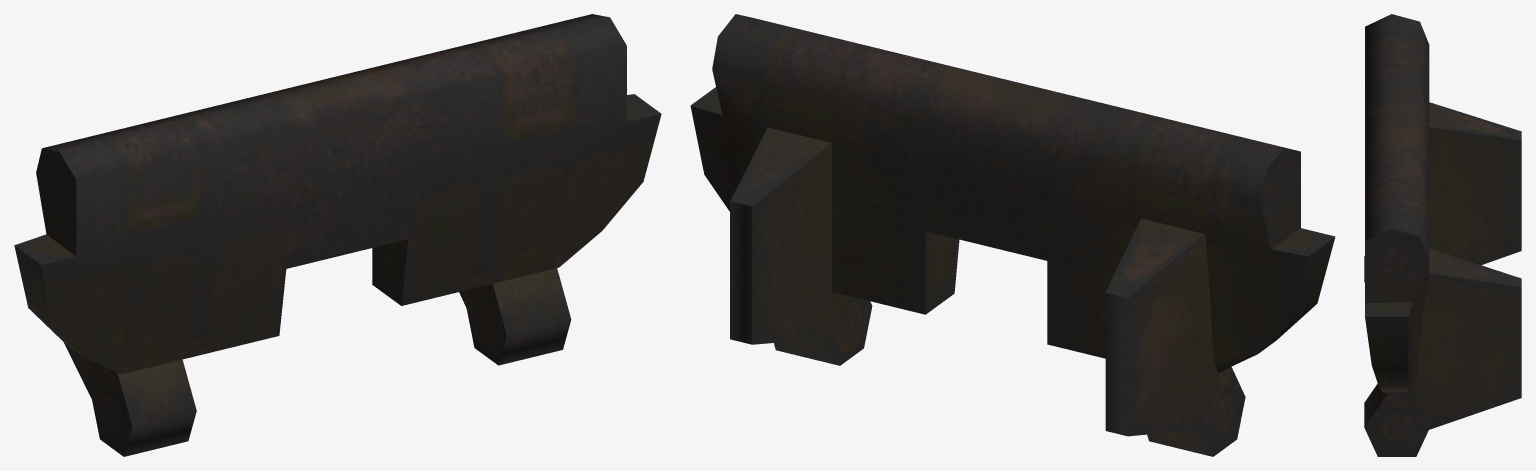
The picture shows the model from 3 angles, left to right: view 1: azimuth 30°, elevation 25°; view 2: azimuth 150°, elevation 25°; view 3: azimuth 270°, elevation 25°; orthographic projection. The views are drawn at different scales.
Visible parts, largest first — view 1: set_0_group_0; view 2: set_0_group_0; view 3: set_0_group_0.
Boxes of the visible parts, x1,y1,x2,y2 form: set_0_group_0: (14, 14, 661, 456); set_0_group_0: (690, 14, 1335, 456); set_0_group_0: (1364, 14, 1521, 456).
Size of the model in its own units: 0.356 by 0.1714 by 0.0977.
Materials: 1 (1 with a texture image).
